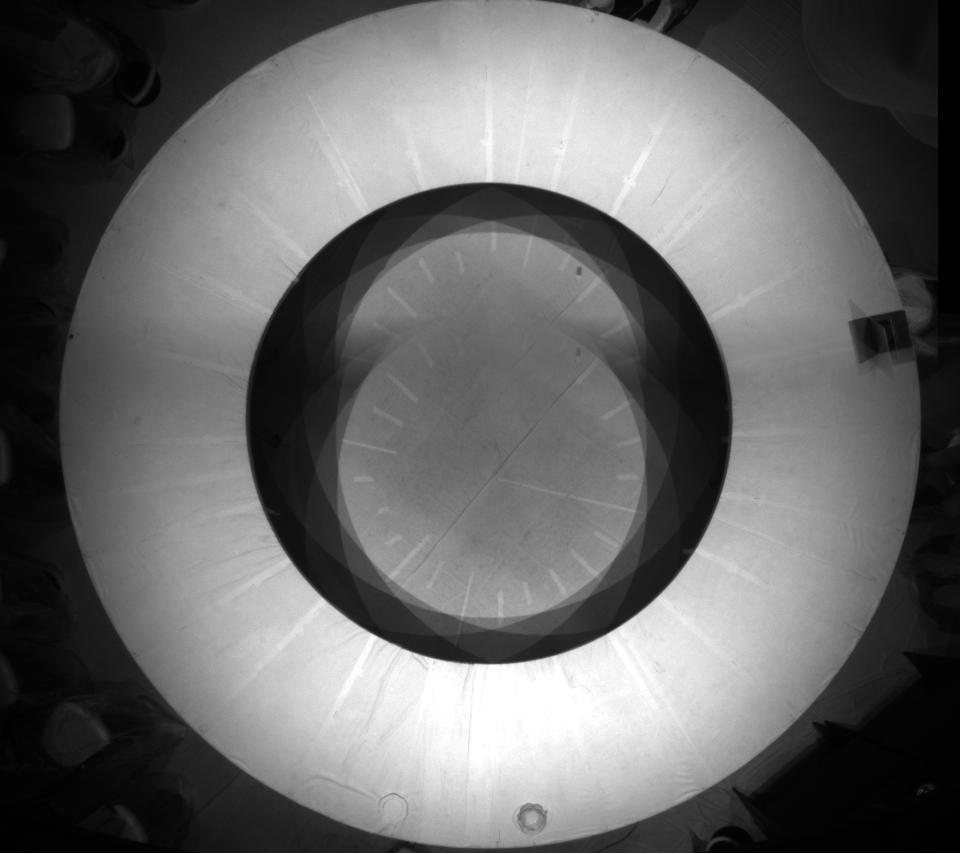Plate: (509, 800, 552, 839)
